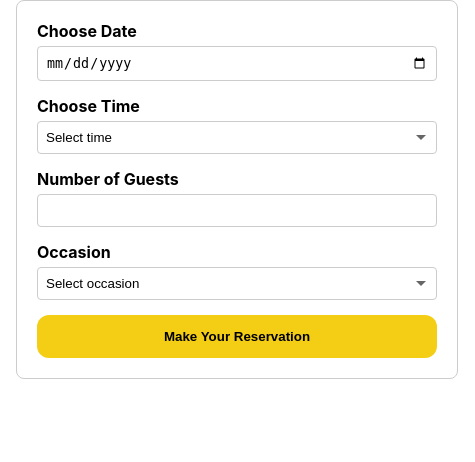
Test: BookingForm › should show error when time is invalid
# Fill in the date and leave the time empty
Type "2025-10-20" into the date field labelled "Choose Date" at [237, 64], box [37,46,437,81]
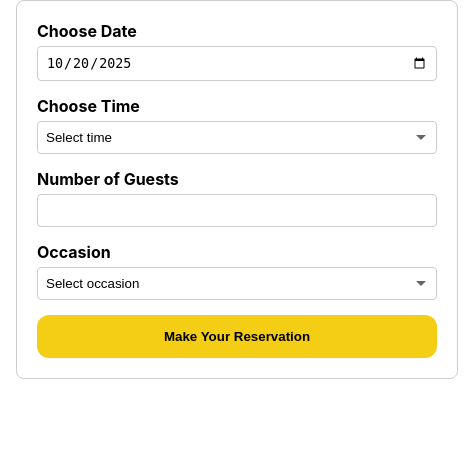
Select "Select time" in the dropdown labelled "Choose Time" at [237, 138], box [37,121,437,154]
Click the button "Make Your Reservation" at [237, 337], box [37,315,437,358]
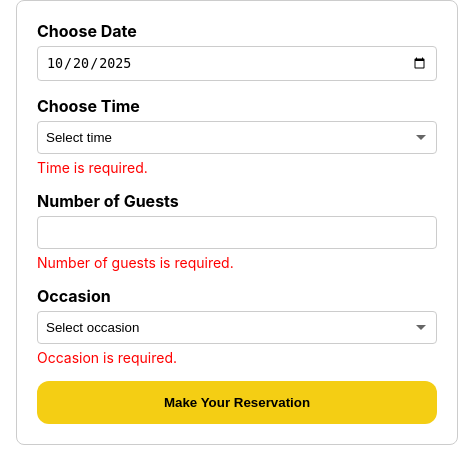
expect the text "Time is required." is shown: met, box [37,159,148,176]
